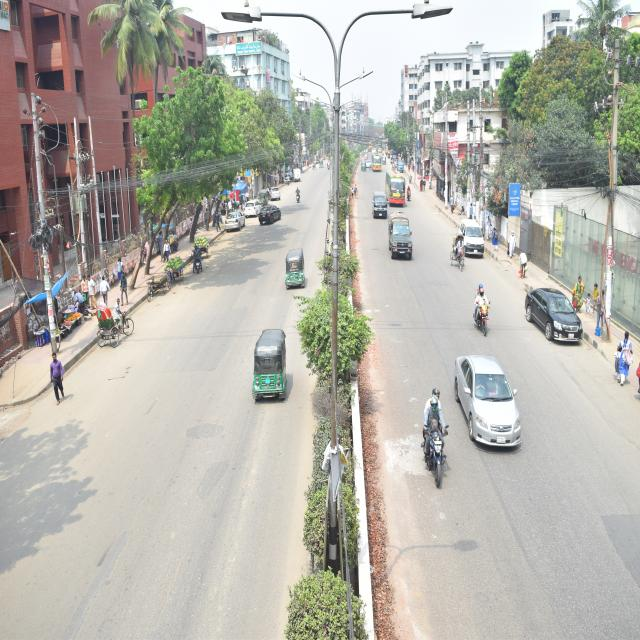bus: (378, 168, 406, 214), (374, 144, 390, 185)
car: (437, 333, 528, 468), (514, 272, 590, 361), (456, 203, 488, 274), (223, 207, 257, 239), (256, 201, 291, 227), (240, 194, 264, 224), (364, 154, 373, 179)
microbus: (369, 178, 388, 236)
motorbike: (409, 374, 454, 500), (463, 271, 496, 341), (292, 186, 307, 224), (404, 177, 414, 222), (322, 149, 334, 176)
pickup-van: (384, 205, 416, 273)
